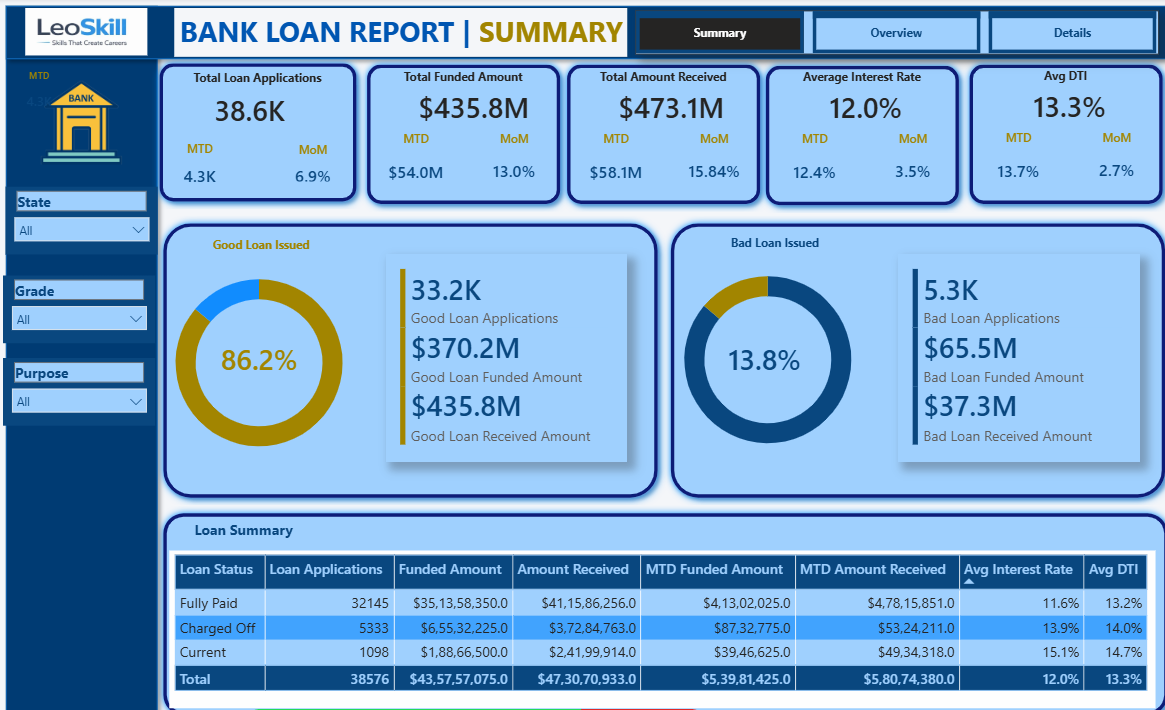

The page's visual inventory and layout, read from the dashboard file:
{"tool":"powerbi","page":{"name":"Summary","canvas":[1370,855],"ordinal":0},"visuals":[{"type":"shape","box":[180.5,581.7,1169,249.3],"z":0},{"type":"shape","box":[0,0,191.9,857.6],"z":1000},{"type":"shape","box":[0,0,1350,79.1],"z":2000},{"type":"image","box":[0,11.5,202.7,54.6],"z":3000},{"type":"textbox","box":[202.7,11.5,519,56.1],"z":4000},{"type":"shape","box":[176.4,65.9,243.6,176.2],"z":5000,"group":"g1"},{"type":"shape","box":[1104.2,67,239.3,177.6],"z":5000,"group":"g5"},{"type":"shape","box":[414.1,67.9,239.3,177.6],"z":5000,"group":"g2"},{"type":"shape","box":[642.9,67.9,239.3,177.6],"z":5000,"group":"g3"},{"type":"shape","box":[871.2,68,239.3,177.6],"z":5000,"group":"g4"},{"type":"shape","box":[180.5,249.3,584.5,332.4],"z":5000},{"type":"textbox","box":[1101.7,75,244,40],"z":6000,"group":"g5"},{"type":"textbox","box":[411.6,75.9,244,40],"z":6000,"group":"g2"},{"type":"textbox","box":[640.4,75.9,244,40],"z":6000,"group":"g3"},{"type":"textbox","box":[868.7,76,244,40],"z":6000,"group":"g4"},{"type":"textbox","box":[174.5,77.5,245,34.4],"z":6000,"group":"g1"},{"type":"image","box":[0,79.1,191.2,128],"z":6000},{"type":"cardVisual","fields":{"Data":["_measures.Avg DTI"]},"box":[1158.1,65.9,192,113.2],"z":7000,"group":"g5"},{"type":"cardVisual","fields":{"Data":["_measures.Average Interest Rate"]},"box":[925.1,66.9,192,113.2],"z":7000,"group":"g4"},{"type":"cardVisual","fields":{"Data":["_measures.Total Funded Amount"]},"box":[453.5,67.3,192,113.2],"z":7000,"group":"g2"},{"type":"cardVisual","fields":{"Data":["_measures.Total Amount Received"]},"box":[682.3,67.3,192,113.2],"z":7000,"group":"g3"},{"type":"cardVisual","fields":{"Data":["_measures.Total Loan Applications"]},"box":[219.6,69.7,192,113.2],"z":7000,"group":"g1"},{"type":"textbox","box":[209.2,267.9,184.8,34.4],"z":7000},{"type":"cardVisual","title":"MTD","fields":{"Data":["_measures.MTD Loan Application"]},"box":[1.1,81.7,91.8,62.9],"z":8000},{"type":"cardVisual","title":"MTD","fields":{"Data":["_measures.MTD Avg DTI"]},"box":[1105.3,150.4,127.5,78.8],"z":8000,"group":"g5"},{"type":"cardVisual","title":"MTD","fields":{"Data":["_measures.MTD Funded Amount"]},"box":[415.2,151.3,127.5,78.8],"z":8000,"group":"g2"},{"type":"cardVisual","title":"MTD","fields":{"Data":["_measures.MTD Total Amount Received"]},"box":[644,151.3,127.5,78.8],"z":8000,"group":"g3"},{"type":"cardVisual","title":"MTD","fields":{"Data":["_measures.MTD Avg Int Rate"]},"box":[872.3,151.4,127.5,78.8],"z":8000,"group":"g4"},{"type":"cardVisual","title":"MTD","fields":{"Data":["_measures.MTD Loan Application"]},"box":[177.8,163.9,107.4,65.7],"z":8000,"group":"g1"},{"type":"group","id":"g1","title":"Group 1","box":[174.5,65.9,249.2,176.2],"z":9000},{"type":"cardVisual","title":"MoM","fields":{"Data":["_measures.MOM Avg DTI"]},"box":[1219.7,150.4,126.1,77.4],"z":9000,"group":"g5"},{"type":"cardVisual","title":"MoM","fields":{"Data":["_measures.MOM Total Funded Amount"]},"box":[529.6,151.3,126.1,77.4],"z":9000,"group":"g2"},{"type":"cardVisual","title":"MoM","fields":{"Data":["_measures.MOM Total Amount Received"]},"box":[758.4,151.3,126.1,77.4],"z":9000,"group":"g3"},{"type":"cardVisual","title":"MoM","fields":{"Data":["_measures.MOM Avg Int Rate"]},"box":[986.7,151.4,126.1,77.4],"z":9000,"group":"g4"},{"type":"cardVisual","title":"MoM","fields":{"Data":["_measures.MOM Loan Application"]},"box":[297.6,165.3,126.1,63],"z":9000,"group":"g1"},{"type":"cardVisual","fields":{"Data":["_measures.Good Loan %"]},"box":[226.4,376.8,156.2,70.2],"z":10000},{"type":"textbox","box":[765,265,243.6,41.5],"z":11000},{"type":"group","id":"g2","title":"Group 1","box":[411.6,67.3,244.1,178.3],"z":12000},{"type":"group","id":"g3","title":"Group 1","box":[640.4,67.3,243.6,177.6],"z":13000},{"type":"group","id":"g4","title":"Group 1","box":[868.7,66.9,248.4,178.7],"z":14000},{"type":"group","id":"g5","title":"Group 1","box":[1101.7,65.9,247.8,177.6],"z":15000},{"type":"donutChart","fields":{"Y":["_measures.Total Loan Applications"],"Category":["bank_loan_data.Good Vs Bad Loan"]},"box":[174.8,280.8,249.3,275.1],"z":16000},{"type":"cardVisual","fields":{"Data":["_measures.Good Loan Applications","_measures.Good Loan Funded Amount","_measures.Good Loan Received Amount"]},"box":[444.1,293.7,276.5,237.8],"z":17000},{"type":"shape","box":[762.2,249.3,584.5,332.4],"z":18000},{"type":"donutChart","fields":{"Y":["_measures.Total Loan Applications"],"Category":["bank_loan_data.Good Vs Bad Loan"]},"box":[757.9,267.9,249.3,293.7],"z":19000},{"type":"cardVisual","fields":{"Data":["_measures.Bad Loan Applications","_measures.Bad Loan Funded Amount","_measures.Bad Loan Received Amount"]},"box":[1031.5,293.7,276.5,237.8],"z":20000},{"type":"cardVisual","fields":{"Data":["_measures.Bad Loan %"]},"box":[808,376.8,156.2,70.2],"z":21000},{"type":"slicer","fields":{"Values":["bank_loan_data.grade"]},"box":[5.7,318,174.8,77.4],"z":22000},{"type":"tableEx","fields":{"Values":["bank_loan_data.loan_status","_measures.Total Loan Applications","_measures.Total Funded Amount","_measures.Total Amount Received","_measures.MTD Funded Amount","_measures.MTD Total Amount Received","_measures.Average Interest Rate","_measures.Avg DTI"]},"box":[196.3,633.2,1130.4,180.5],"z":23000},{"type":"textbox","box":[816.6,266.5,147.6,27.2],"z":24000},{"type":"textbox","box":[202,593.1,159,40.1],"z":25000},{"type":"slicer","fields":{"Values":["bank_loan_data.address_state"]},"box":[8.6,216.3,174.8,77.4],"z":26000},{"type":"slicer","fields":{"Values":["bank_loan_data.purpose"]},"box":[5.7,412.6,174.8,77.4],"z":27000},{"type":"pageNavigator","box":[730.7,14.3,600.3,50.1],"z":27001}]}

Visuals, with their boxes in screenshot pixels (x1, y1, x2, y2), scaled from the page's 1370x855 canvas onto the 1165x710 screenshot:
shape: 153, 483, 1148, 690
shape: 0, 0, 163, 709
shape: 0, 0, 1148, 66
image: 0, 10, 172, 55
textbox: 172, 10, 614, 56
shape: 150, 55, 357, 201
shape: 939, 56, 1142, 203
shape: 352, 56, 556, 204
shape: 547, 56, 750, 204
shape: 741, 56, 944, 204
shape: 153, 207, 651, 483
textbox: 937, 62, 1144, 95
textbox: 350, 63, 557, 96
textbox: 545, 63, 752, 96
textbox: 739, 63, 946, 96
textbox: 148, 64, 357, 93
image: 0, 66, 163, 172
cardVisual - _measures.Avg DTI: 985, 55, 1148, 149
cardVisual - _measures.Average Interest Rate: 787, 56, 950, 150
cardVisual - _measures.Total Funded Amount: 386, 56, 549, 150
cardVisual - _measures.Total Amount Received: 580, 56, 743, 150
cardVisual - _measures.Total Loan Applications: 187, 58, 350, 152
textbox: 178, 222, 335, 251
"MTD" cardVisual: 1, 68, 79, 120
"MTD" cardVisual: 940, 125, 1048, 190
"MTD" cardVisual: 353, 126, 461, 191
"MTD" cardVisual: 548, 126, 656, 191
"MTD" cardVisual: 742, 126, 850, 191
"MTD" cardVisual: 151, 136, 243, 191
"Group 1" group: 148, 55, 360, 201
"MoM" cardVisual: 1037, 125, 1144, 189
"MoM" cardVisual: 450, 126, 558, 190
"MoM" cardVisual: 645, 126, 752, 190
"MoM" cardVisual: 839, 126, 946, 190
"MoM" cardVisual: 253, 137, 360, 190
cardVisual - _measures.Good Loan %: 193, 313, 325, 371
textbox: 651, 220, 858, 255
"Group 1" group: 350, 56, 558, 204
"Group 1" group: 545, 56, 752, 203
"Group 1" group: 739, 56, 950, 204
"Group 1" group: 937, 55, 1148, 202
donutChart - _measures.Total Loan Applications x bank_loan_data.Good Vs Bad Loan: 149, 233, 361, 462
cardVisual - _measures.Good Loan Applications x _measures.Good Loan Funded Amount: 378, 244, 613, 441
shape: 648, 207, 1145, 483
donutChart - _measures.Total Loan Applications x bank_loan_data.Good Vs Bad Loan: 644, 222, 856, 466
cardVisual - _measures.Bad Loan Applications x _measures.Bad Loan Funded Amount: 877, 244, 1112, 441
cardVisual - _measures.Bad Loan %: 687, 313, 820, 371
slicer - bank_loan_data.grade: 5, 264, 153, 328
tableEx - bank_loan_data.loan_status x _measures.Total Loan Applications: 167, 526, 1128, 676
textbox: 694, 221, 820, 244
textbox: 172, 493, 307, 526
slicer - bank_loan_data.address_state: 7, 180, 156, 244
slicer - bank_loan_data.purpose: 5, 343, 153, 407
pageNavigator: 621, 12, 1132, 53
